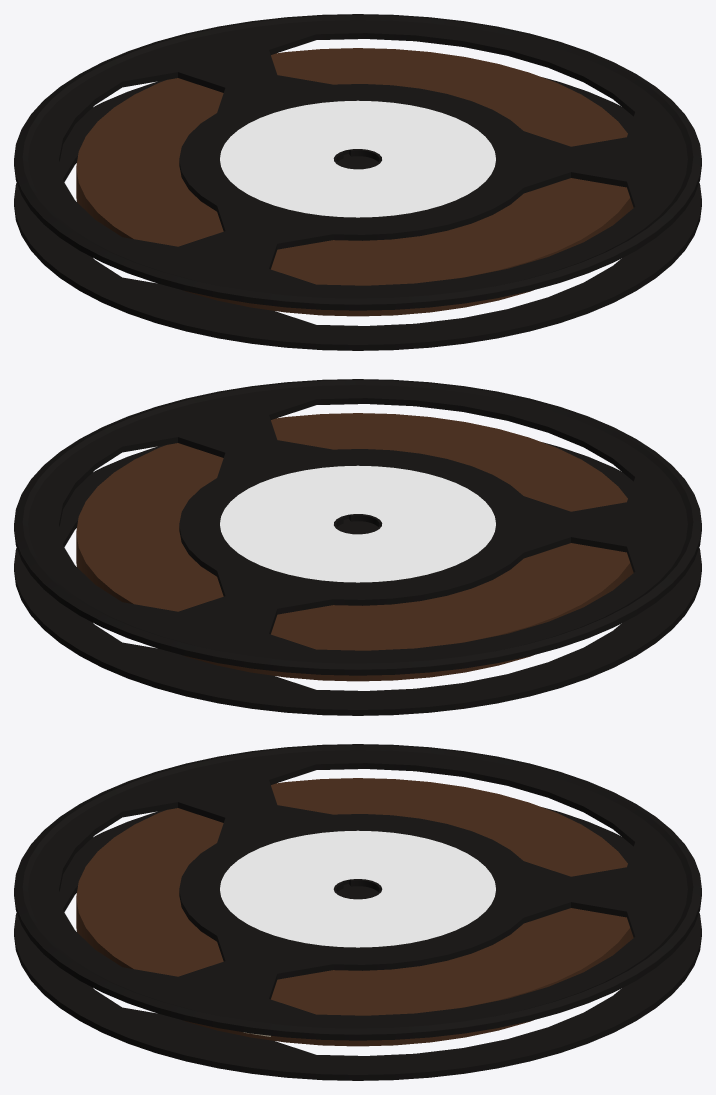
The model's file is tape_reel.glb.
The picture shows the model from 3 angles, top to bottom: view 1: azimuth 30°, elevation 25°; view 2: azimuth 150°, elevation 25°; view 3: azimuth 270°, elevation 25°; orthographic projection.
Parts seen in each view (by area): view 1: reel_body, tape_reel, label; view 2: reel_body, tape_reel, label; view 3: reel_body, tape_reel, label.
Boxes of the visible parts, box(x1,y1,x2,y2) form: reel_body: box(14, 14, 701, 316); tape_reel: box(14, 77, 701, 350); label: box(220, 100, 495, 217); reel_body: box(14, 379, 701, 681); tape_reel: box(14, 442, 701, 715); label: box(220, 465, 495, 582); reel_body: box(14, 744, 701, 1046); tape_reel: box(14, 807, 701, 1080); label: box(220, 830, 495, 947).
Bounding box in the file's own units: 0.127 × 0.0104 × 0.127.
